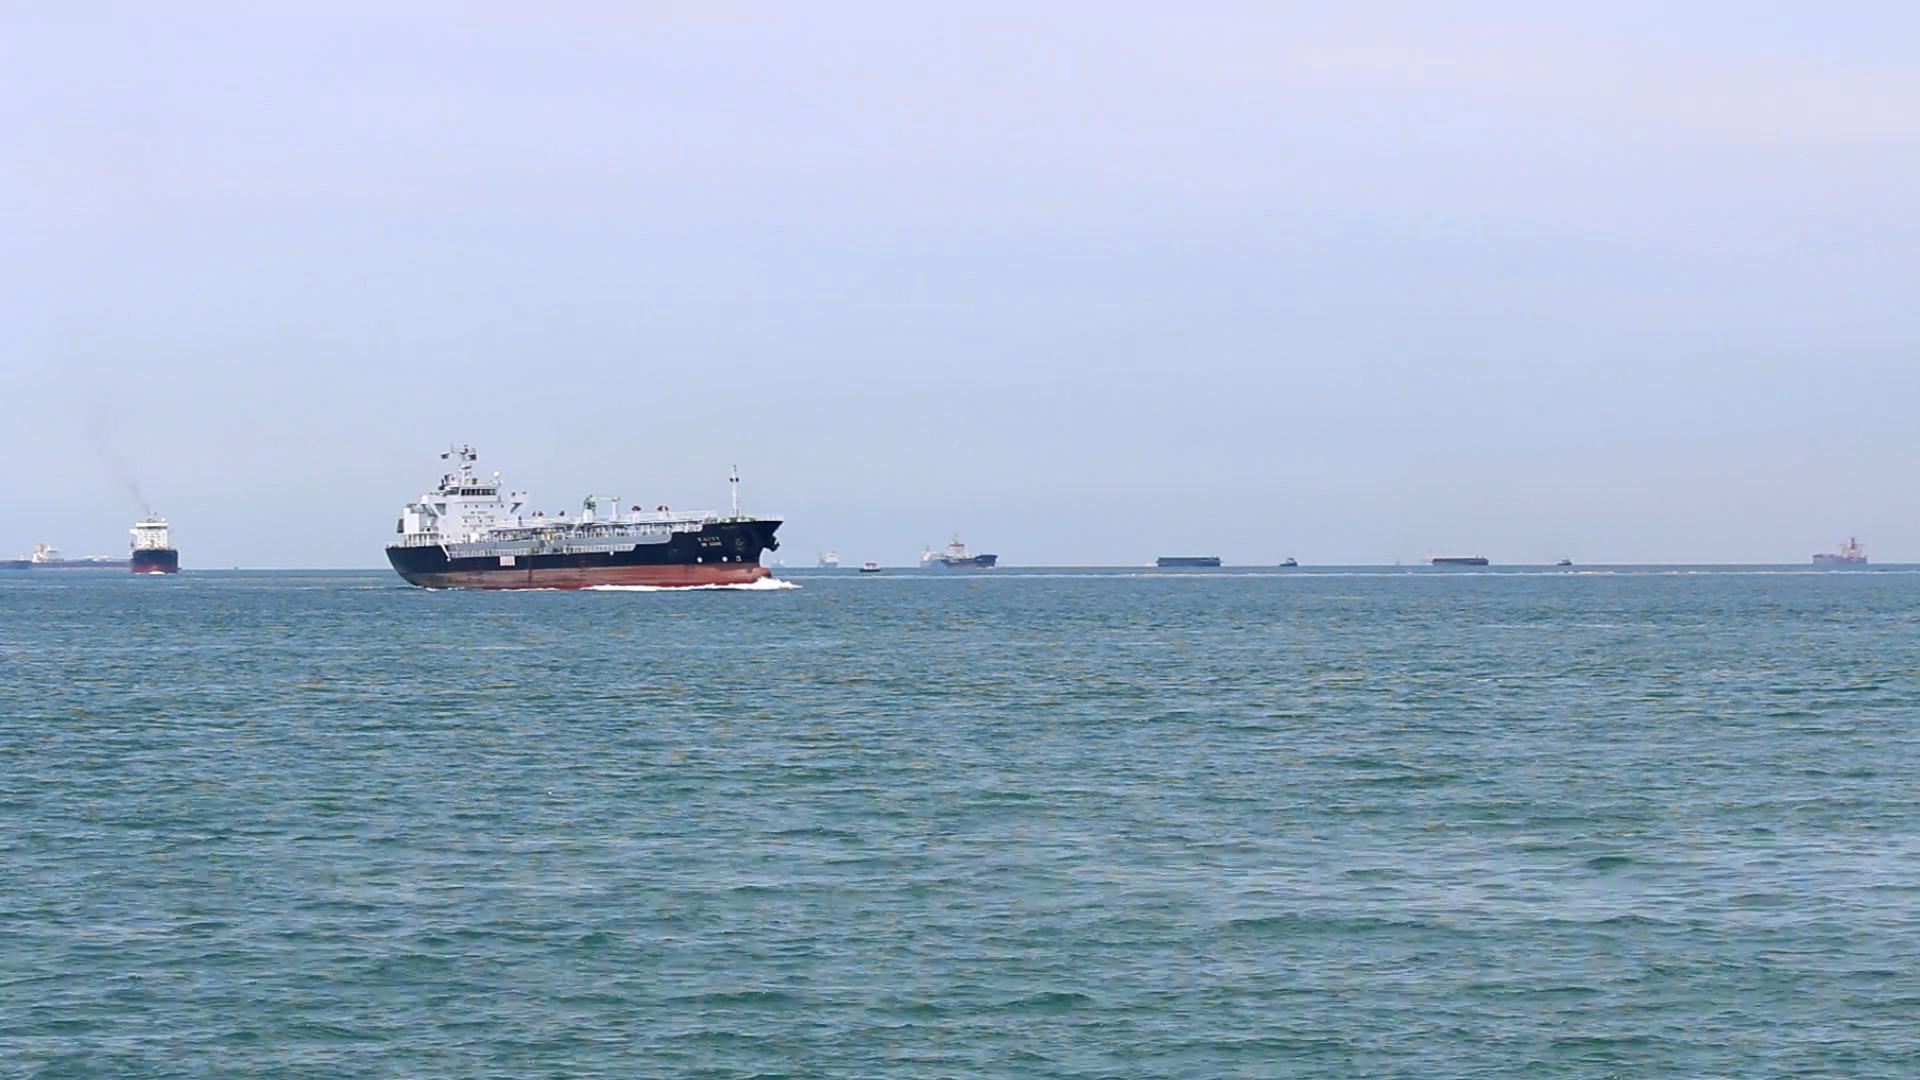Container Ship: (377, 433, 794, 597), (3, 541, 128, 575), (129, 514, 183, 579), (915, 535, 1001, 571), (1805, 529, 1875, 571)
